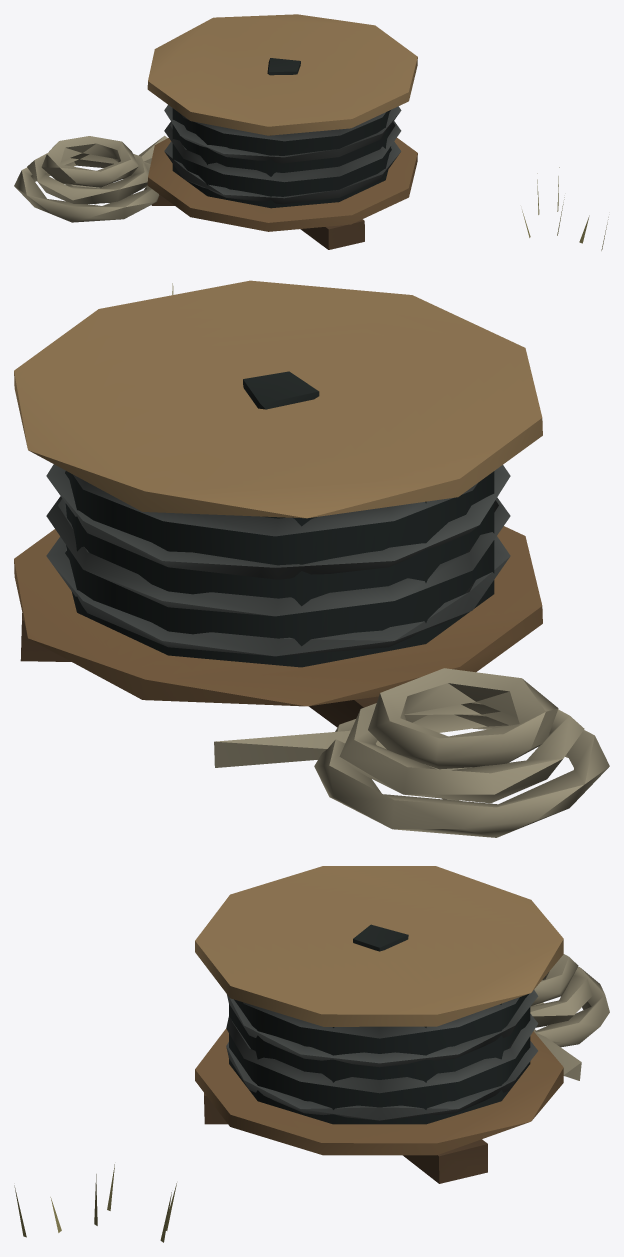
Rendered from cable_drum_a_lod1.glb.
3 renders of one model, top to bottom at view 1: azimuth 30°, elevation 25°; view 2: azimuth 150°, elevation 25°; view 3: azimuth 270°, elevation 25°, orthographic. The views are drawn at different scales.
Parts seen in each view (by area): view 1: Surface.001; view 2: Surface.001; view 3: Surface.001.
Boxes of the visible parts, <box> form: Surface.001: <box>14,14,608,250</box>; Surface.001: <box>14,280,609,837</box>; Surface.001: <box>14,866,609,1242</box>.
Bounding box in the file's own units: 5.29 × 1.68 × 5.04.
